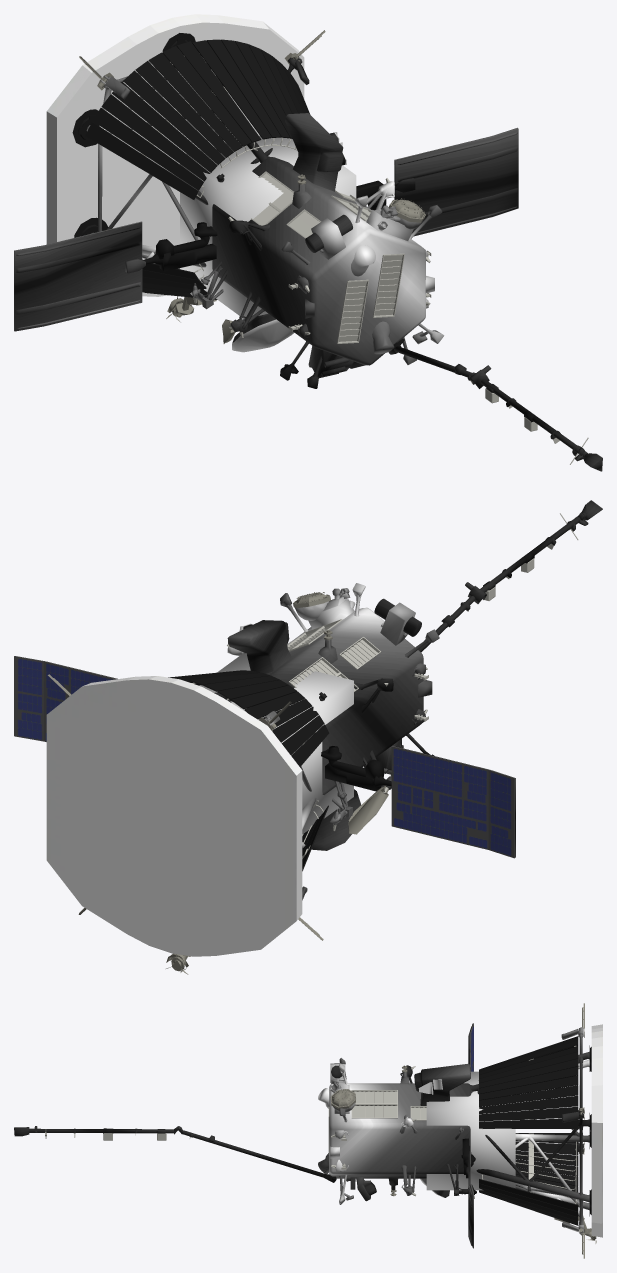
The model's file is parker.glb.
3 views of the same model, one above another, from view 1: azimuth 30°, elevation 25°; view 2: azimuth 150°, elevation 25°; view 3: azimuth 270°, elevation 25° (orthographic). The views are drawn at different scales.
Parts seen in each view (by area): view 1: BUS, CoolingSystem, Instruments, _root, CoolingSystem_frame, solarArray_arms, HGA, magnetometers; view 2: Instruments, BUS, CoolingSystem, _root, CoolingSystem_frame, solarArray_arms; view 3: BUS, CoolingSystem, _root, Instruments, CoolingSystem_frame.
Boxes of the visible parts, bbox=[...] form: BUS: bbox=[14, 49, 602, 471]; CoolingSystem: bbox=[72, 33, 310, 299]; Instruments: bbox=[14, 14, 517, 343]; _root: bbox=[180, 136, 356, 318]; CoolingSystem_frame: bbox=[103, 56, 404, 343]; solarArray_arms: bbox=[143, 180, 396, 271]; HGA: bbox=[232, 319, 294, 352]; magnetometers: bbox=[193, 178, 588, 464]; Instruments: bbox=[14, 592, 514, 974]; BUS: bbox=[15, 500, 602, 900]; CoolingSystem: bbox=[168, 670, 329, 871]; _root: bbox=[199, 653, 353, 834]; CoolingSystem_frame: bbox=[180, 619, 380, 972]; solarArray_arms: bbox=[321, 746, 391, 791]; BUS: bbox=[14, 1023, 589, 1248]; CoolingSystem: bbox=[479, 1036, 591, 1225]; _root: bbox=[426, 1071, 515, 1190]; Instruments: bbox=[330, 1003, 602, 1258]; CoolingSystem_frame: bbox=[328, 1045, 592, 1240].
Size of the model in its own units: 4.51 by 2.53 by 6.61.
6 materials, 2 textured.
